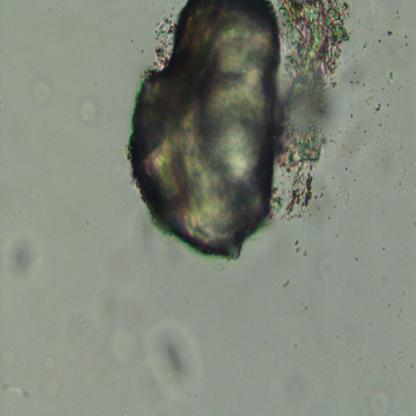Background material: (276, 0, 343, 227), (154, 308, 200, 408), (6, 225, 37, 282), (153, 0, 171, 63), (73, 92, 100, 124), (26, 78, 52, 110), (2, 379, 31, 407), (340, 0, 354, 21), (365, 92, 377, 106), (387, 70, 395, 81), (294, 241, 300, 255), (398, 305, 404, 319), (376, 101, 382, 113), (395, 10, 401, 21), (396, 351, 404, 359), (282, 280, 289, 289), (388, 29, 393, 39), (376, 38, 382, 44), (363, 42, 368, 49), (303, 250, 307, 258), (382, 274, 386, 282), (352, 69, 357, 75), (402, 289, 406, 296), (354, 254, 358, 261), (348, 113, 353, 118), (398, 180, 402, 186), (404, 42, 408, 47), (382, 246, 386, 251), (355, 80, 360, 84), (345, 166, 348, 172), (364, 128, 367, 134), (379, 121, 382, 127), (381, 86, 384, 92), (404, 34, 408, 38), (363, 82, 366, 87), (382, 157, 385, 162), (387, 102, 390, 106), (350, 150, 352, 155), (350, 79, 352, 84), (354, 179, 356, 183)
Fragment: (119, 0, 284, 272)
